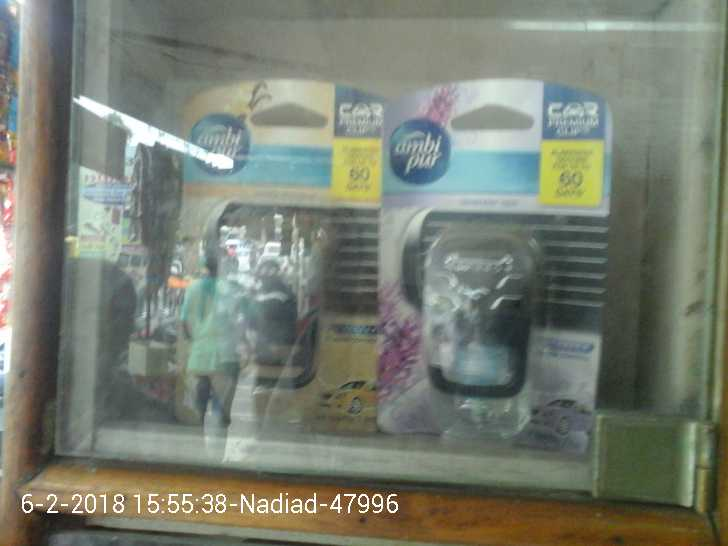ambipure: (138, 89, 385, 435), (385, 88, 601, 441)
